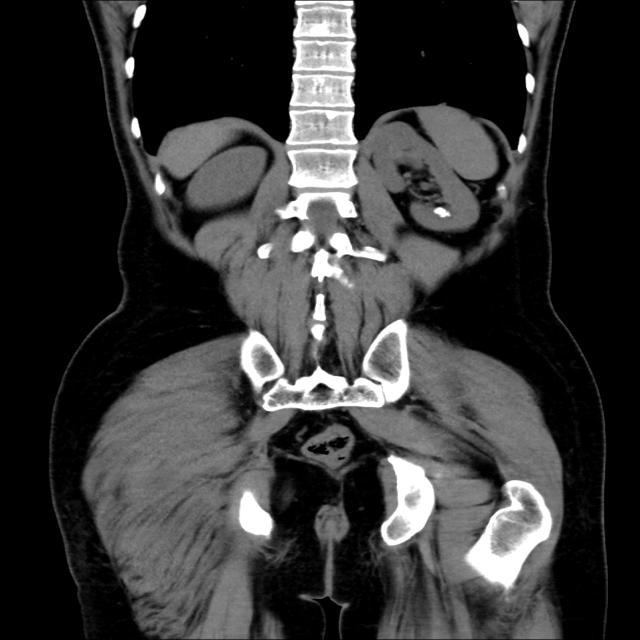kidneystone: (434, 206, 449, 216)
